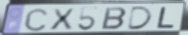5: (77, 6, 103, 32)
B: (100, 7, 129, 31)
C: (22, 7, 50, 33)
D: (126, 6, 154, 31)
L: (155, 6, 176, 29)
X: (48, 8, 76, 32)
